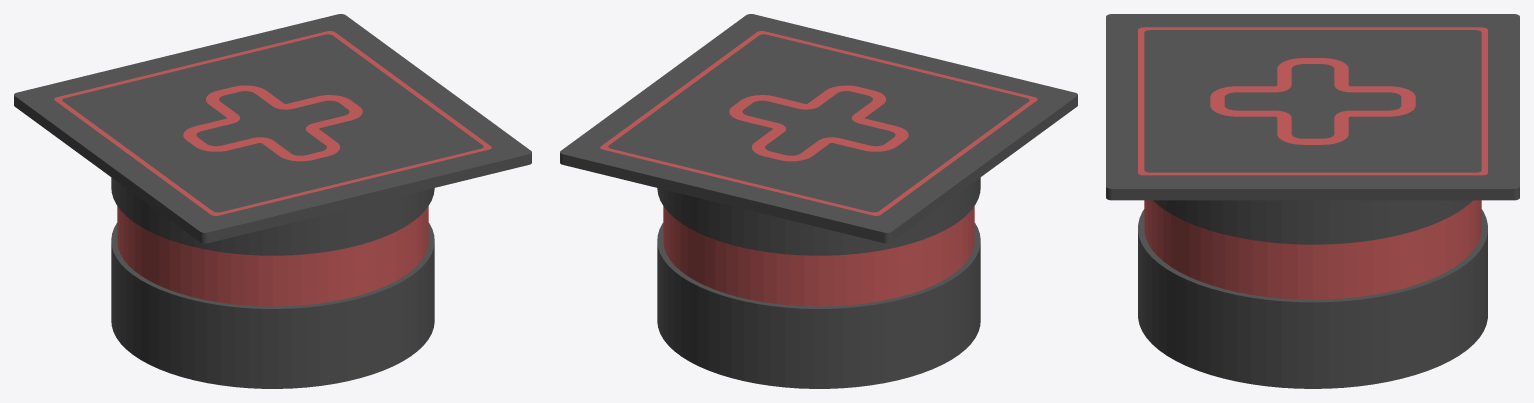
The model's file is bomboniera-medicina-facolta-montato.glb.
The picture shows the model from 3 angles, left to right: view 1: azimuth 30°, elevation 25°; view 2: azimuth 150°, elevation 25°; view 3: azimuth 270°, elevation 25°; orthographic projection. The views are drawn at different scales.
Visible parts, largest first — view 1: struttura_coperchio, struttura_base, fascia, simbolo_intarsio, bordo; view 2: struttura_coperchio, struttura_base, fascia, simbolo_intarsio, bordo; view 3: struttura_coperchio, struttura_base, fascia, simbolo_intarsio, bordo.
Part boxes in pixels (x1,y1,x2,y2): struttura_coperchio: [14, 14, 531, 255]; struttura_base: [111, 223, 434, 388]; fascia: [117, 206, 428, 306]; simbolo_intarsio: [183, 85, 362, 161]; bordo: [54, 31, 491, 215]; struttura_coperchio: [560, 14, 1077, 255]; struttura_base: [657, 223, 980, 388]; fascia: [663, 206, 974, 306]; simbolo_intarsio: [729, 85, 908, 161]; bordo: [600, 31, 1037, 215]; struttura_coperchio: [1106, 14, 1519, 244]; struttura_base: [1138, 209, 1487, 388]; fascia: [1144, 200, 1481, 299]; simbolo_intarsio: [1210, 58, 1415, 144]; bordo: [1138, 27, 1487, 175].
Size of the model in its own units: 0.065 by 0.037 by 0.065.
